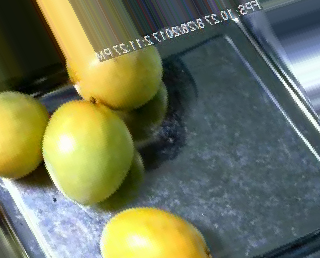Mango: (41, 101, 133, 204), (98, 207, 211, 258), (74, 44, 162, 108), (0, 90, 50, 178)
